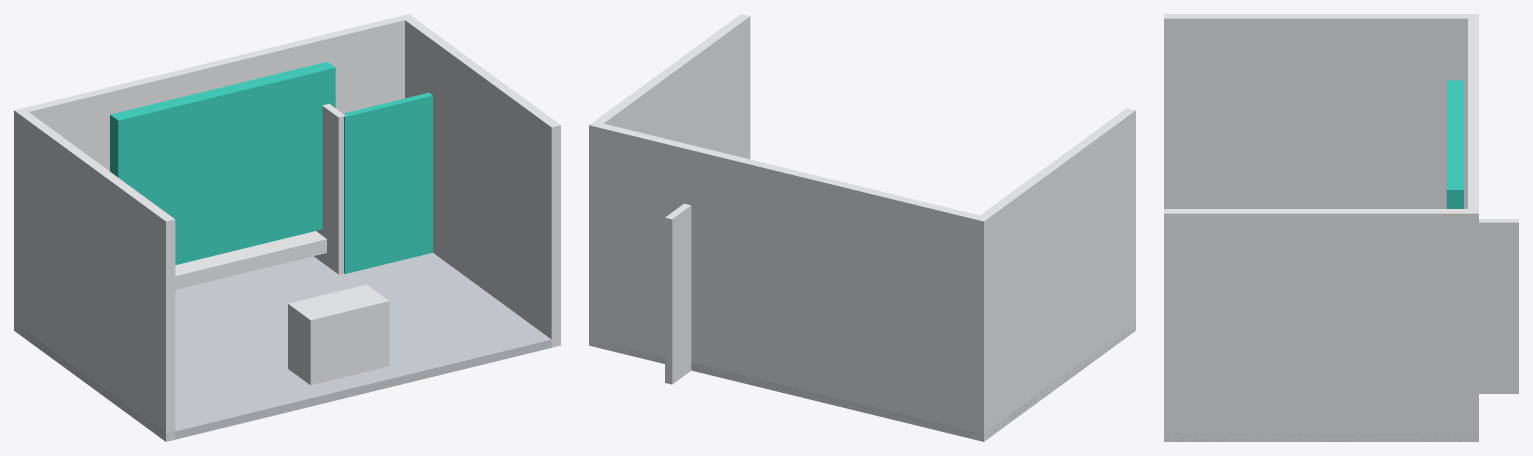
3 views of the same model, side by side, from view 1: azimuth 30°, elevation 25°; view 2: azimuth 150°, elevation 25°; view 3: azimuth 270°, elevation 25° (orthographic). The views are drawn at different scales.
Visible parts, largest first — view 1: Exhibition Booth Concept; view 2: Exhibition Booth Concept; view 3: Exhibition Booth Concept.
Part boxes in pixels (x1,y1,x2,y2): Exhibition Booth Concept: (14, 14, 560, 441); Exhibition Booth Concept: (589, 14, 1135, 441); Exhibition Booth Concept: (1164, 14, 1518, 441).
Bounding box in the file's own units: 6 × 3.2 × 4.51.
